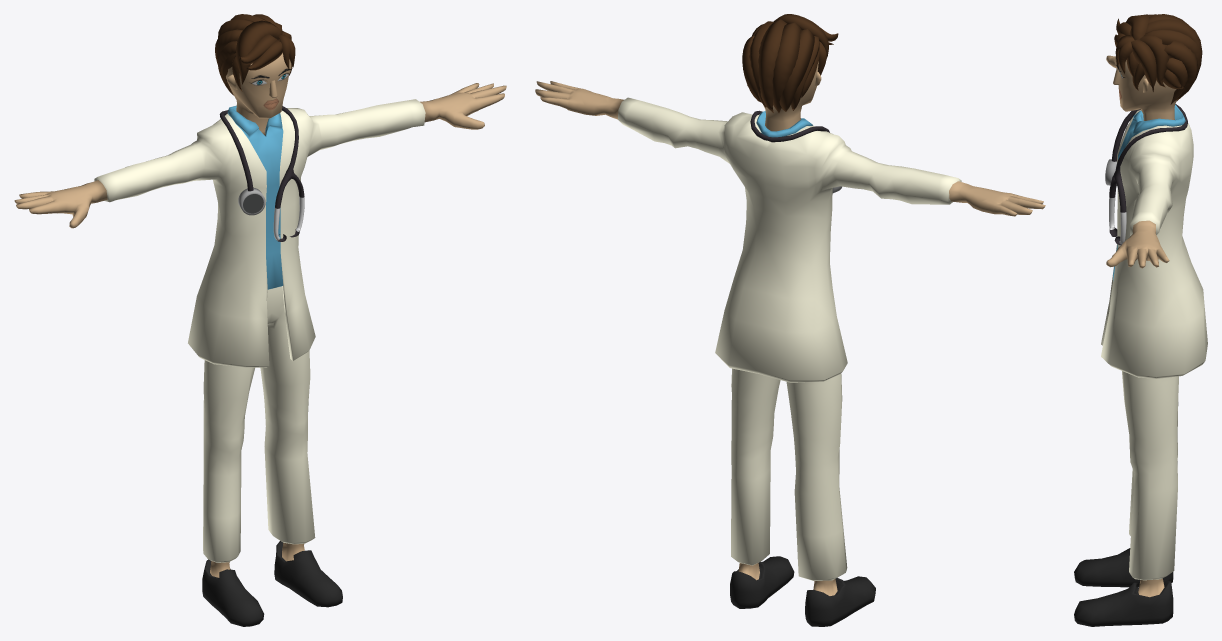
File: character15.glb
3 views of the same model, side by side, from view 1: azimuth 30°, elevation 25°; view 2: azimuth 150°, elevation 25°; view 3: azimuth 270°, elevation 25° (orthographic). The views are drawn at different scales.
Parts seen in each view (by area): view 1: Suit_Body, Suit_Legs, Suit_Head, Suit_Feet, Cube.001; view 2: Suit_Body, Suit_Legs, Suit_Head, Suit_Feet; view 3: Suit_Body, Suit_Legs, Suit_Head, Suit_Feet, Cube.001, Cube.
Part boxes in pixels (box(x1,y1,x2,y2)): Suit_Body: box(14, 83, 506, 367); Suit_Legs: box(203, 286, 315, 562); Suit_Head: box(215, 14, 295, 135); Suit_Feet: box(202, 541, 342, 626); Cube.001: box(219, 106, 304, 241); Suit_Body: box(535, 81, 1045, 382); Suit_Legs: box(731, 368, 847, 580); Suit_Head: box(742, 14, 838, 131); Suit_Feet: box(730, 556, 875, 626); Suit_Body: box(1101, 55, 1207, 378); Suit_Legs: box(1122, 371, 1178, 580); Suit_Head: box(1113, 14, 1202, 120); Suit_Feet: box(1074, 548, 1173, 626); Cube.001: box(1109, 104, 1187, 245); Cube: box(1105, 159, 1117, 186).
Bounding box in the file's own units: 1.58 × 1.75 × 0.3647.
Materials: 9 (1 with a texture image).
